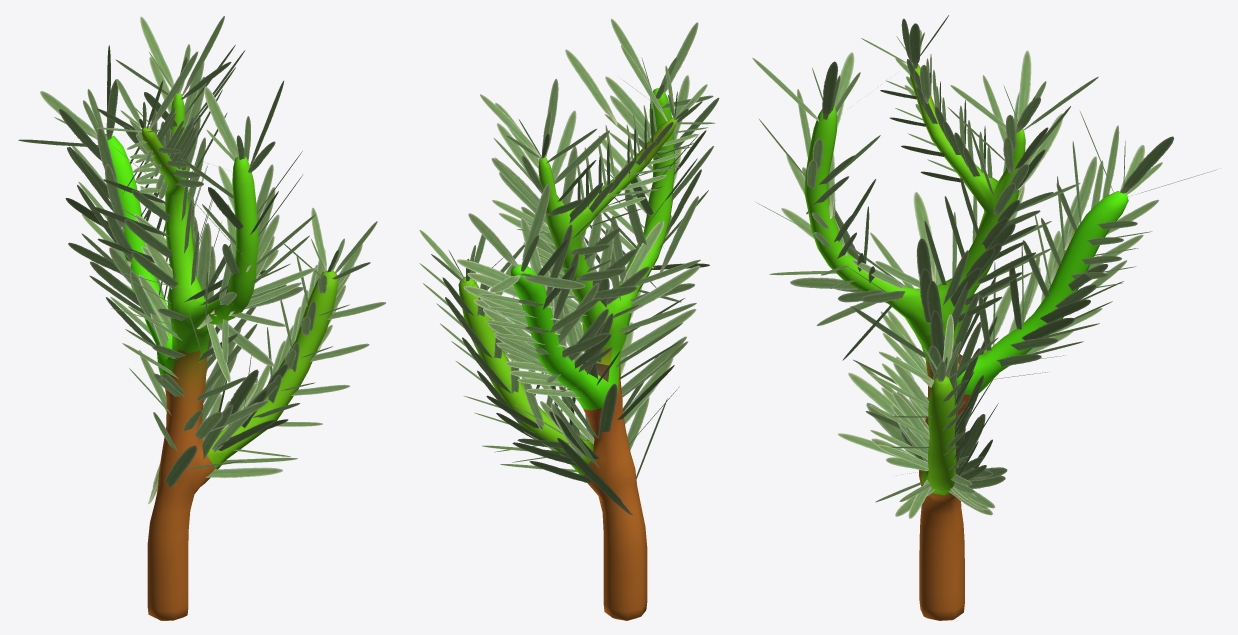
The model's file is alecrim.fbx.
The picture shows the model from 3 angles, left to right: view 1: azimuth 30°, elevation 25°; view 2: azimuth 150°, elevation 25°; view 3: azimuth 270°, elevation 25°; orthographic projection. The views are drawn at different scales.
Parts seen in each view (by area): view 1: alecrimFolha, alecrim; view 2: alecrimFolha, alecrim; view 3: alecrimFolha, alecrim.
Part boxes in pixels (<box>): alecrimFolha: <box>18,16,385,504</box>; alecrim: <box>104,93,338,620</box>; alecrimFolha: <box>419,18,719,514</box>; alecrim: <box>458,88,677,620</box>; alecrimFolha: <box>752,15,1216,518</box>; alecrim: <box>804,62,1128,620</box>.
Size of the model in its own units: 356 by 661 by 471.
